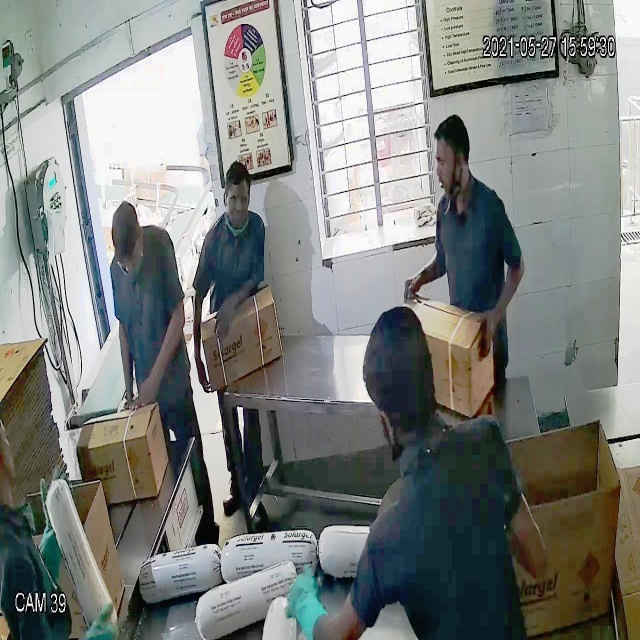Sin_gafas: (431, 146, 465, 176)
